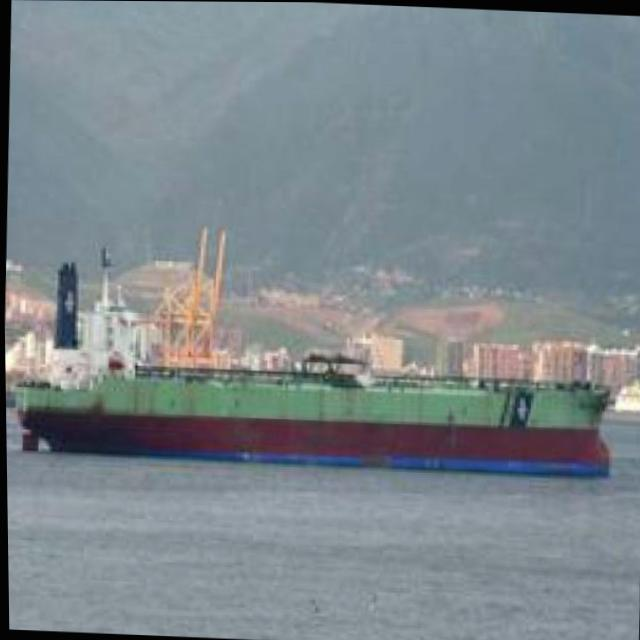ship2: (12, 243, 617, 480)
